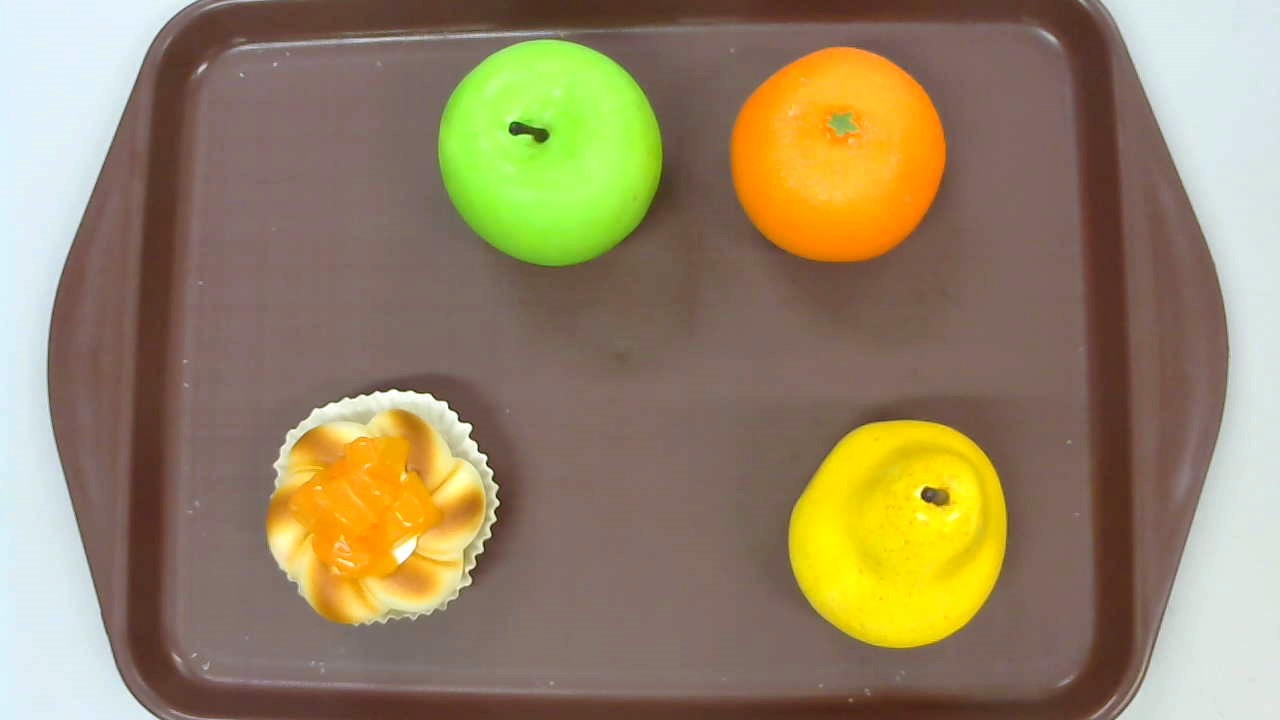green apple: (436, 40, 662, 268)
mango tart: (266, 389, 500, 626)
orange: (729, 47, 945, 266)
yellow pear: (786, 419, 1008, 648)
